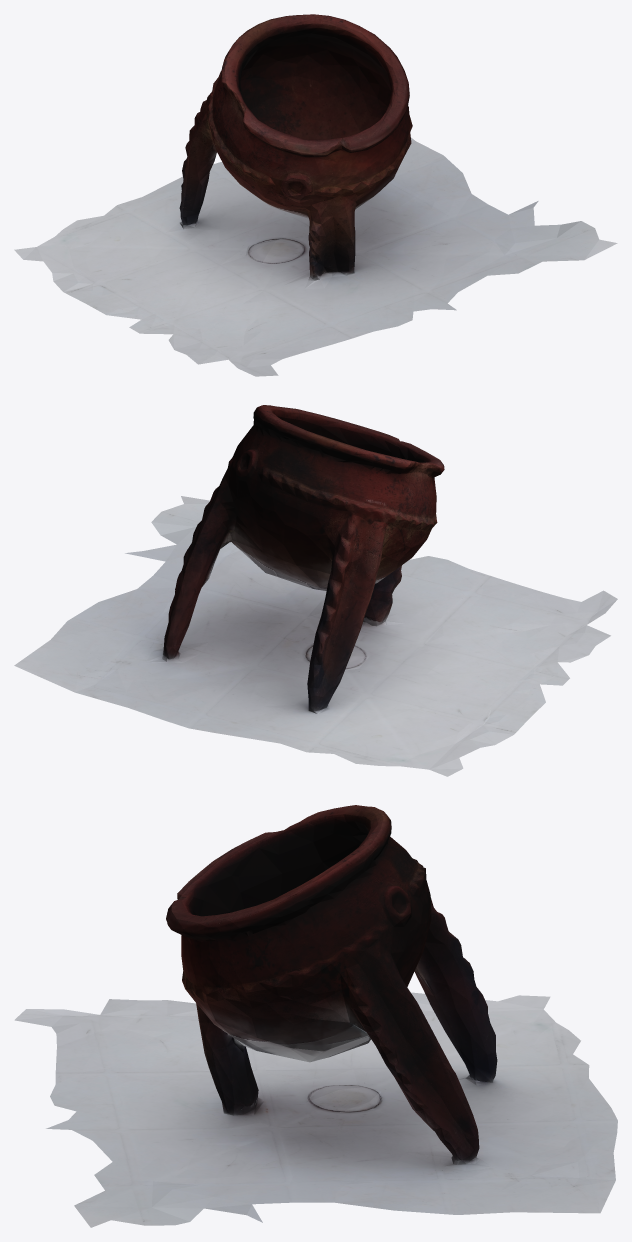
File: 5-vasija2final.glb
The picture shows the model from 3 angles, top to bottom: view 1: azimuth 30°, elevation 25°; view 2: azimuth 150°, elevation 25°; view 3: azimuth 270°, elevation 25°; orthographic projection. The views are drawn at different scales.
Visible parts, largest first — view 1: Mesh_0.001, Mesh_1.001, Mesh_2.001; view 2: Mesh_0.001, Mesh_1.001, Mesh_2.001; view 3: Mesh_0.001, Mesh_1.001, Mesh_2.001.
Part boxes in pixels (x1,y1,x2,y2): Mesh_0.001: (168,112,617,376); Mesh_1.001: (14,60,398,334); Mesh_2.001: (192,14,412,218); Mesh_0.001: (14,468,617,713); Mesh_1.001: (75,408,569,776); Mesh_2.001: (227,405,441,590); Mesh_0.001: (14,897,615,1227); Mesh_1.001: (168,825,617,1180); Mesh_2.001: (166,805,431,1062).
Bounding box in the file's own units: 8.25 × 4.19 × 7.62.
3 materials, 3 textured.
